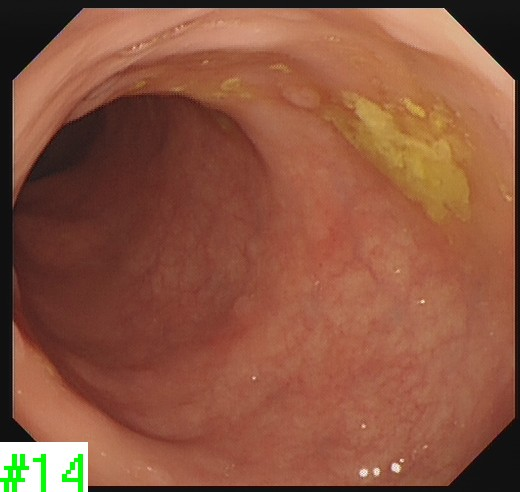others: (276, 79, 326, 113)
